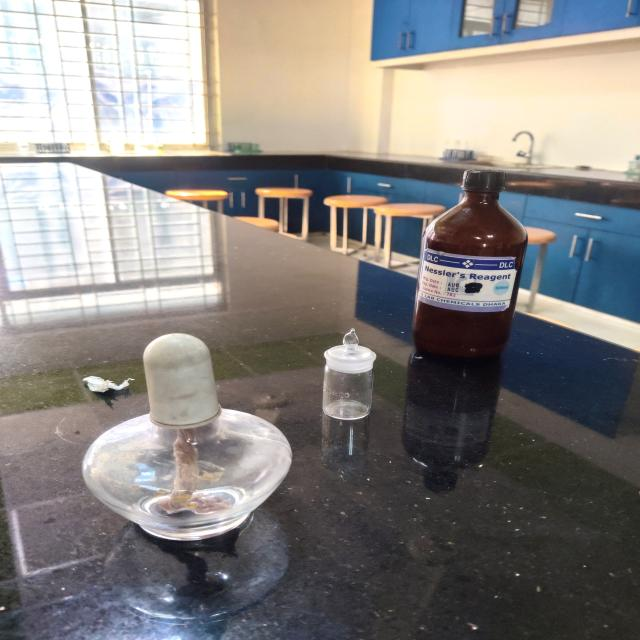Nessler_Reagent_Bottle: (399, 152, 544, 381)
Spirit_Lamp: (49, 306, 305, 563)
Weighing_Bottle: (303, 315, 390, 437)
